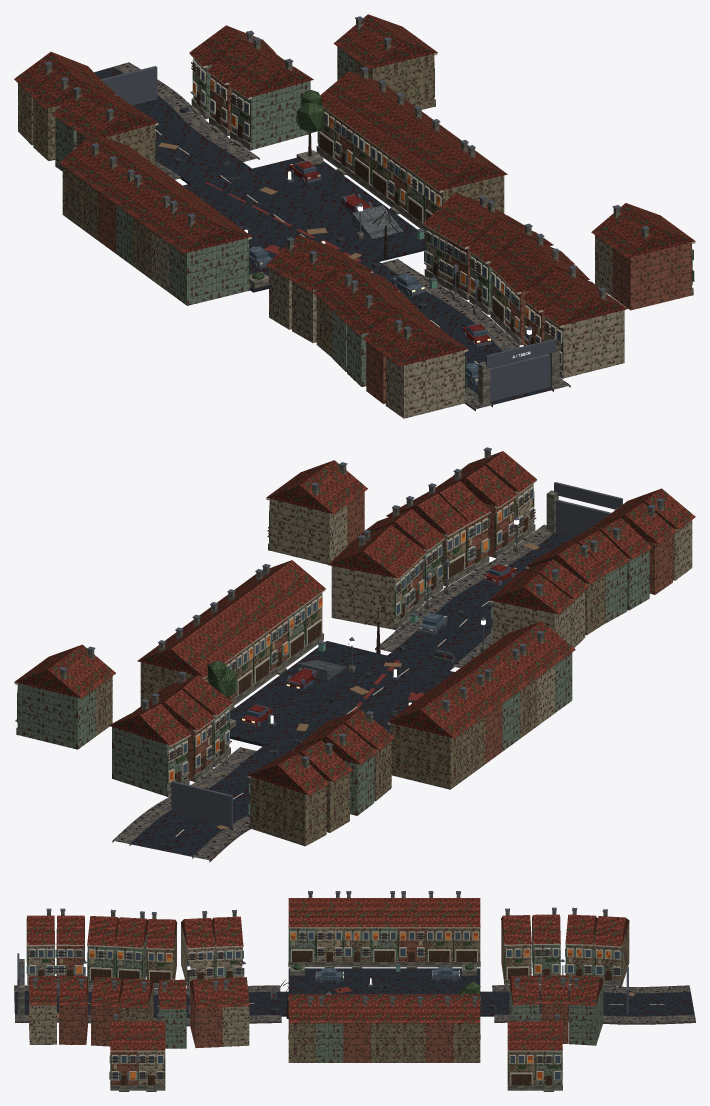
Rendered from MB_Route_A.fbx.
The picture shows the model from 3 angles, top to bottom: view 1: azimuth 30°, elevation 25°; view 2: azimuth 150°, elevation 25°; view 3: azimuth 270°, elevation 25°; orthographic projection. The views are drawn at different scales.
Visible parts, largest first — view 1: MB_Route_A_Dressing_4_-1.001, Floor_A_Court, MB_Route_A_Dressing_1_-1, MB_Route_A_Dressing_3_-1, MB_Route_A_Dressing_2_-1.002, MB_Route_A_Dressing_1_-1.003, MB_Route_A_Dressing_4_-1, Floor_A_Street, FacadeBay, MB_Route_A_Dressing_2_-1, MB_Route_A_Dressing_2_-1.001, MB_Route_A_Dressing_4_-1.002 (+21 smaller); view 2: MB_Route_A_Dressing_4_-1.001, MB_Route_A_Dressing_3_-1, Floor_A_Court, MB_Route_A_Dressing_2_-1.001, Floor_A_Street, MB_Route_A_Dressing_4_-1.002, MB_Route_A_Dressing_1_-1.003, MB_Route_A_Dressing_1_-1, MB_Route_A_Dressing_1_-1.002, MB_Route_A_Dressing_1_-1.001, MB_Route_A_Dressing_4_-1, MB_Route_A_Dressing_2_-1.002 (+19 smaller); view 3: MB_Route_A_Dressing_3_-1, MB_Route_A_Dressing_4_-1.001, MB_Route_A_Dressing_1_-1, Floor_A_Street, MB_Route_A_Dressing_4_-1.002, Floor_A_Court, MB_Route_A_Dressing_2_-1, MB_Route_A_Dressing_4_-1, MB_Route_A_Dressing_1_-1.003, MB_Route_A_Dressing_2_-1.002, MB_Route_A_Dressing_3_-1.001, MB_Route_A_Dressing_1_-1.001 (+18 smaller).
Boxes of the visible parts, left/top/right/bottom form: MB_Route_A_Dressing_4_-1.001: left=52, top=14, right=419, bottom=171; Floor_A_Court: left=183, top=158, right=425, bottom=292; MB_Route_A_Dressing_1_-1: left=362, top=216, right=695, bottom=403; MB_Route_A_Dressing_3_-1: left=59, top=67, right=453, bottom=240; MB_Route_A_Dressing_2_-1.002: left=165, top=136, right=489, bottom=305; MB_Route_A_Dressing_1_-1.003: left=541, top=203, right=676, bottom=378; MB_Route_A_Dressing_4_-1: left=73, top=27, right=437, bottom=165; Floor_A_Street: left=94, top=67, right=553, bottom=407; FacadeBay: left=382, top=324, right=468, bottom=418; MB_Route_A_Dressing_2_-1: left=148, top=198, right=373, bottom=342; MB_Route_A_Dressing_2_-1.001: left=265, top=193, right=505, bottom=329; MB_Route_A_Dressing_4_-1.002: left=14, top=52, right=116, bottom=160; MB_Route_A_Dressing_4_-1.001: left=14, top=657, right=377, bottom=815; MB_Route_A_Dressing_3_-1: left=137, top=598, right=488, bottom=789; Floor_A_Court: left=230, top=641, right=454, bottom=750; MB_Route_A_Dressing_2_-1.001: left=328, top=535, right=573, bottom=644; Floor_A_Street: left=130, top=532, right=574, bottom=857; MB_Route_A_Dressing_4_-1.002: left=247, top=740, right=353, bottom=846; MB_Route_A_Dressing_1_-1.003: left=266, top=447, right=536, bottom=564; MB_Route_A_Dressing_1_-1: left=284, top=460, right=676, bottom=594; MB_Route_A_Dressing_1_-1.002: left=386, top=493, right=608, bottom=635; MB_Route_A_Dressing_1_-1.001: left=548, top=517, right=652, bottom=622; MB_Route_A_Dressing_4_-1: left=32, top=644, right=394, bottom=801; MB_Route_A_Dressing_2_-1.002: left=224, top=569, right=575, bottom=712; MB_Route_A_Dressing_3_-1: left=370, top=891, right=480, bottom=1062; MB_Route_A_Dressing_4_-1.001: left=509, top=907, right=603, bottom=1091; MB_Route_A_Dressing_1_-1: left=56, top=908, right=138, bottom=1091; Floor_A_Street: left=14, top=990, right=694, bottom=1018; MB_Route_A_Dressing_4_-1.002: left=564, top=907, right=629, bottom=987; Floor_A_Court: left=288, top=968, right=480, bottom=994; MB_Route_A_Dressing_2_-1: left=181, top=891, right=343, bottom=985; MB_Route_A_Dressing_4_-1: left=501, top=908, right=535, bottom=1090; MB_Route_A_Dressing_1_-1.003: left=28, top=976, right=165, bottom=1091; MB_Route_A_Dressing_2_-1.002: left=288, top=891, right=343, bottom=1062; MB_Route_A_Dressing_3_-1.001: left=343, top=994, right=452, bottom=1062; MB_Route_A_Dressing_1_-1.001: left=87, top=909, right=147, bottom=985.
Size of the model in its own units: 5173 by 978 by 9955.
Materials: 33 (19 with a texture image).
